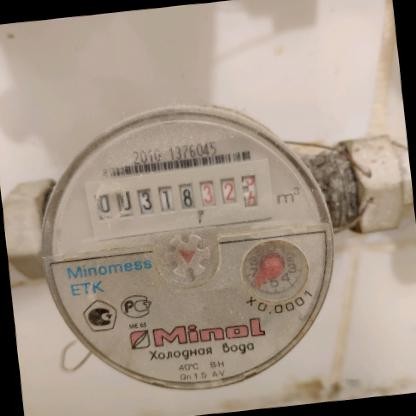digital_screen: (81, 166, 205, 240)
